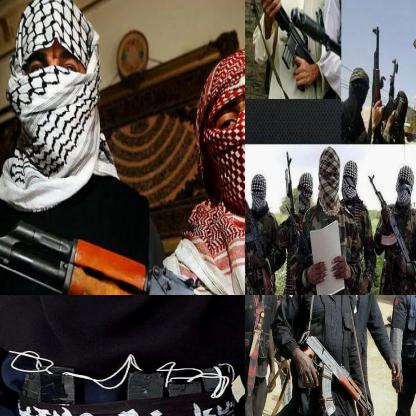rifle: (0, 161, 244, 294), (292, 329, 386, 415), (245, 0, 317, 94), (365, 173, 415, 294), (245, 173, 273, 293), (368, 24, 394, 141), (409, 0, 415, 73)
